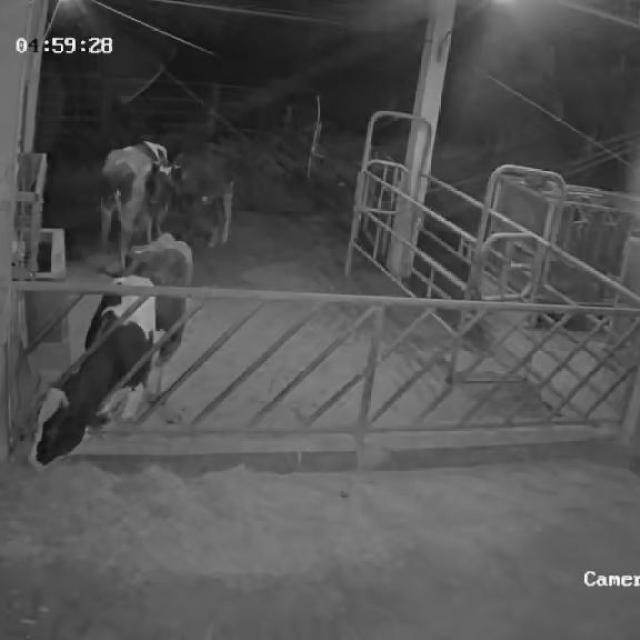feeding: (30, 234, 187, 494)
standing: (94, 136, 164, 273), (148, 146, 230, 250)
